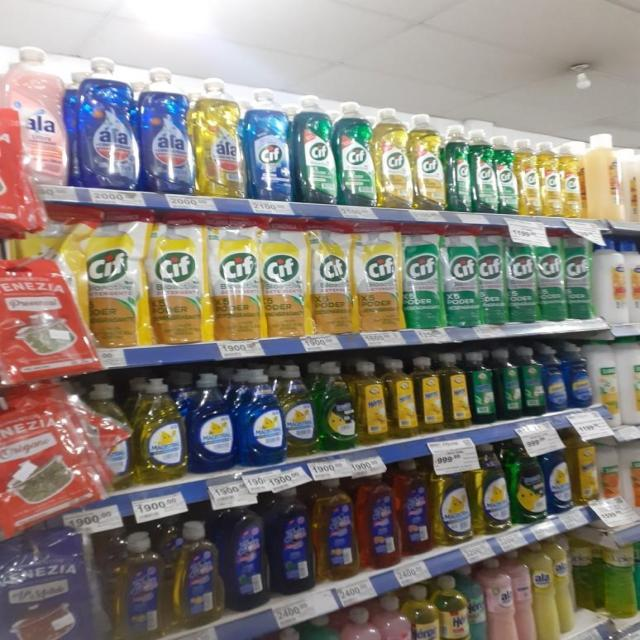ala_conc_amarillo: (193, 75, 244, 198)
ala_conc_azul: (75, 53, 138, 191), (140, 66, 192, 196)
ala_ultra_rosa: (9, 45, 67, 191)
cif_conc_bot_amarilla: (375, 108, 411, 210), (412, 114, 445, 212), (561, 142, 583, 218), (518, 139, 539, 216), (540, 141, 561, 217)
cif_conc_botella_verde: (295, 96, 336, 204), (337, 102, 374, 206), (446, 125, 471, 212), (472, 128, 495, 214), (496, 134, 517, 214)
cif_conc_sachet_amarillo: (87, 216, 145, 349), (149, 214, 207, 345), (209, 216, 261, 341), (262, 218, 308, 338), (310, 221, 354, 335), (355, 223, 401, 332)
cif_conc_sachet_verde: (403, 226, 442, 329), (444, 227, 478, 327), (508, 231, 538, 323), (478, 229, 506, 325), (538, 232, 565, 322), (566, 234, 593, 320)
heroe: (344, 606, 384, 640), (309, 614, 345, 640), (277, 626, 309, 640)
magistral_con_amarillo: (136, 377, 185, 484), (431, 456, 472, 547), (474, 445, 509, 535), (283, 364, 316, 457), (511, 443, 544, 524)
magistral_con_azul: (188, 372, 235, 473), (238, 368, 283, 467), (544, 441, 572, 515), (546, 345, 567, 413)
magistral_con_verde: (318, 361, 356, 452)
zorro: (111, 529, 165, 640), (170, 520, 220, 628), (224, 501, 266, 612), (270, 487, 312, 595), (315, 477, 356, 582), (360, 470, 398, 570)
